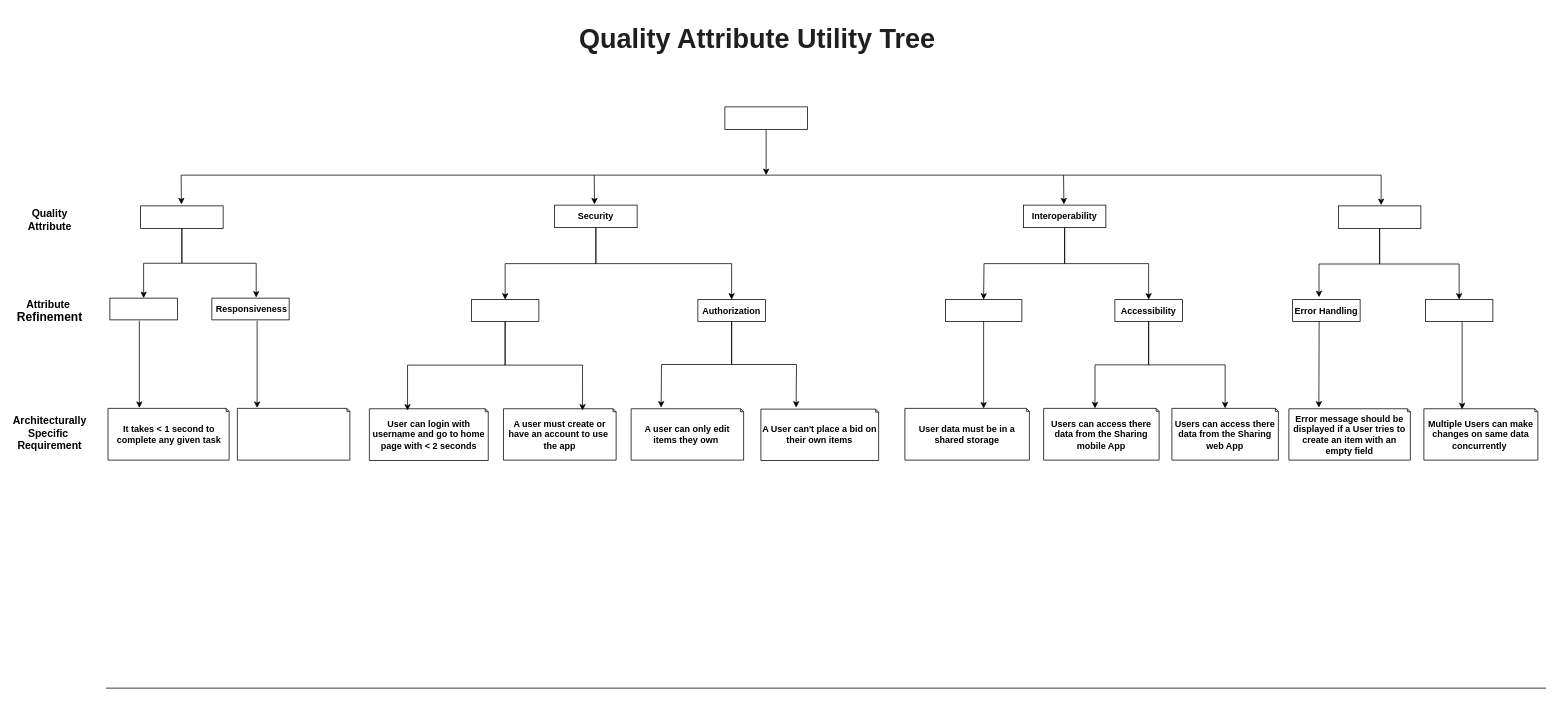
Some shapes in this 1560 by 702 pixel diagram are drawn without their labels. Here are the shapes that lost their labels. From the top down, the centre of each, then its label:
At pixel 765 117: "Utility".
At pixel 181 216: "Performance".
At pixel 1379 216: "Reliability".
At pixel 143 308: "Latency".
At pixel 505 310: "Authentication".
At pixel 983 310: "Shared Storage".
At pixel 1459 310: "Data Integrity".
At pixel 293 434: "User should receive the list of relevant searched items swiftly with < 2 seconds".
